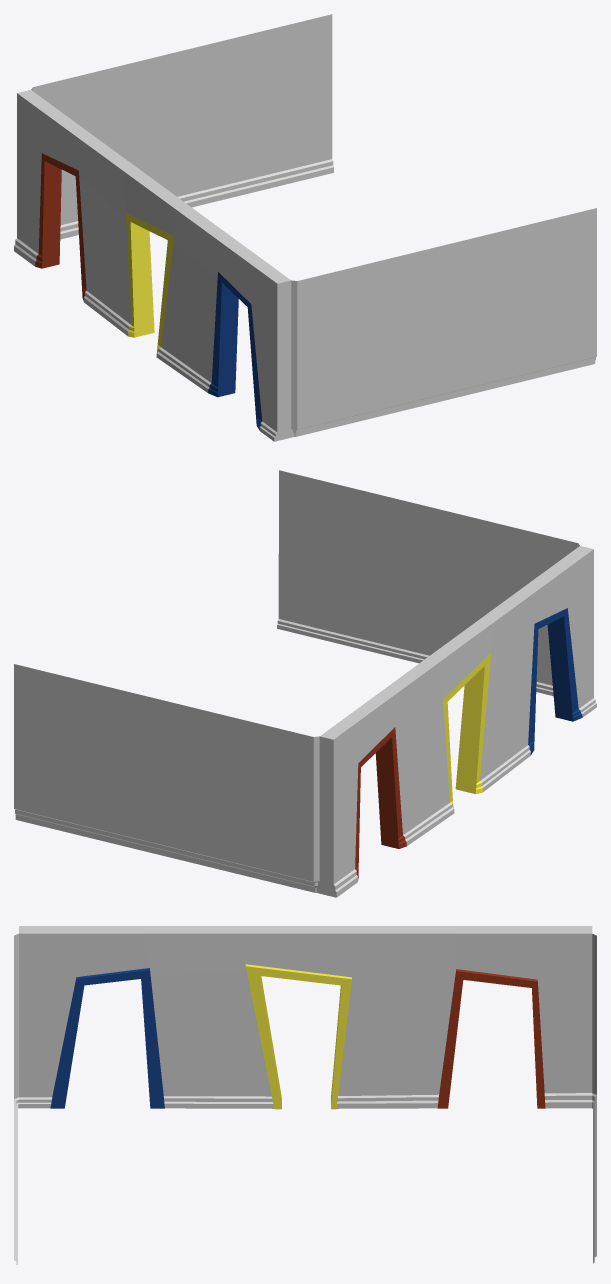
Rendered from Mur.fbx.
3 views of the same model, one above another, from view 1: azimuth 30°, elevation 25°; view 2: azimuth 150°, elevation 25°; view 3: azimuth 270°, elevation 25° (orthographic). The views are drawn at different scales.
Parts seen in each view (by area): view 1: Mur.côté, Mur; view 2: Mur.côté, Mur; view 3: Mur, Mur.côté.
Boxes of the visible parts, bbox=[...] form: Mur.côté: bbox=[32, 14, 596, 436]; Mur: bbox=[14, 88, 297, 441]; Mur.côté: bbox=[14, 470, 578, 892]; Mur: bbox=[313, 543, 596, 897]; Mur: bbox=[14, 926, 596, 1109]; Mur.côté: bbox=[14, 1095, 596, 1265].
Bounding box in the file's own units: 1072 × 500 × 1526.
